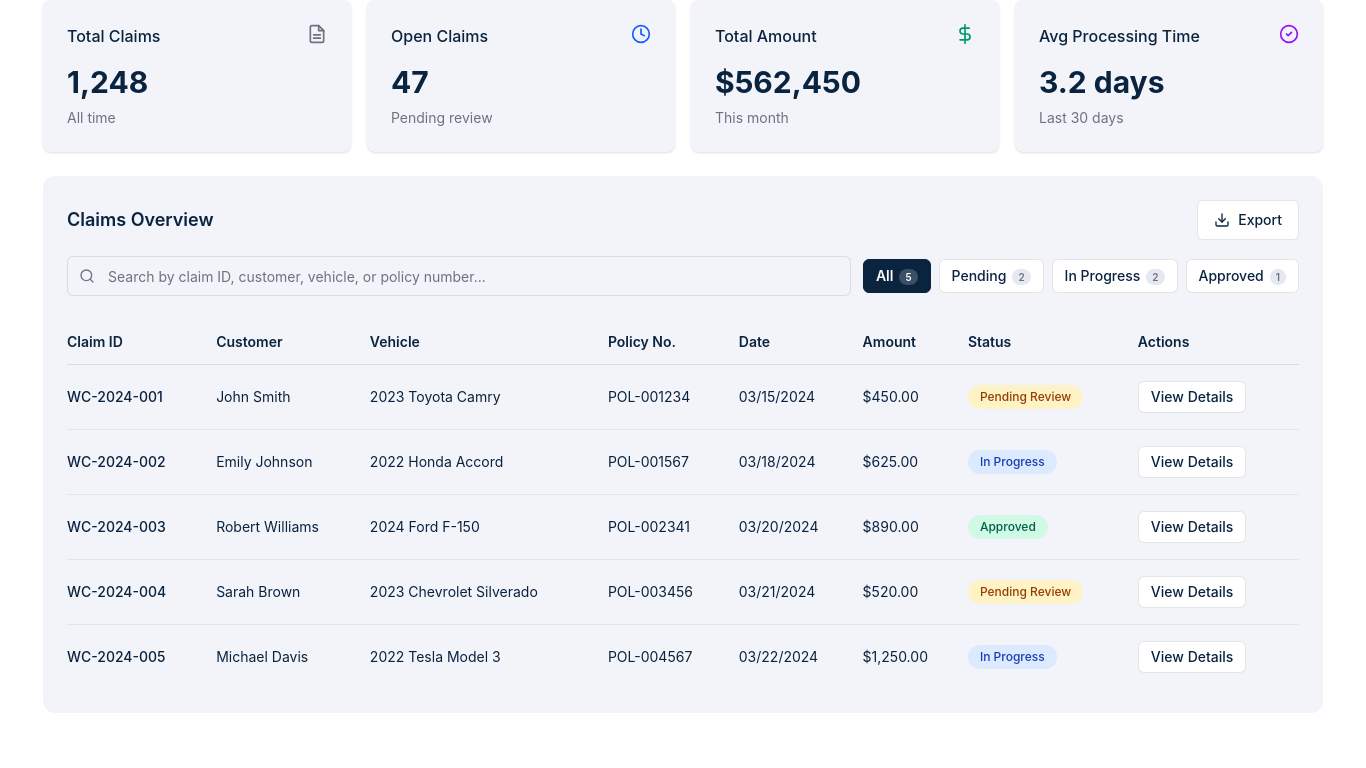
Scenario: InsurerDashboardPage › filters to Pending Review claims
The width and height of the screenshot is (1366, 768).
Click the tab "Pending2".
click(991, 276)  # box [938,259,1044,293]
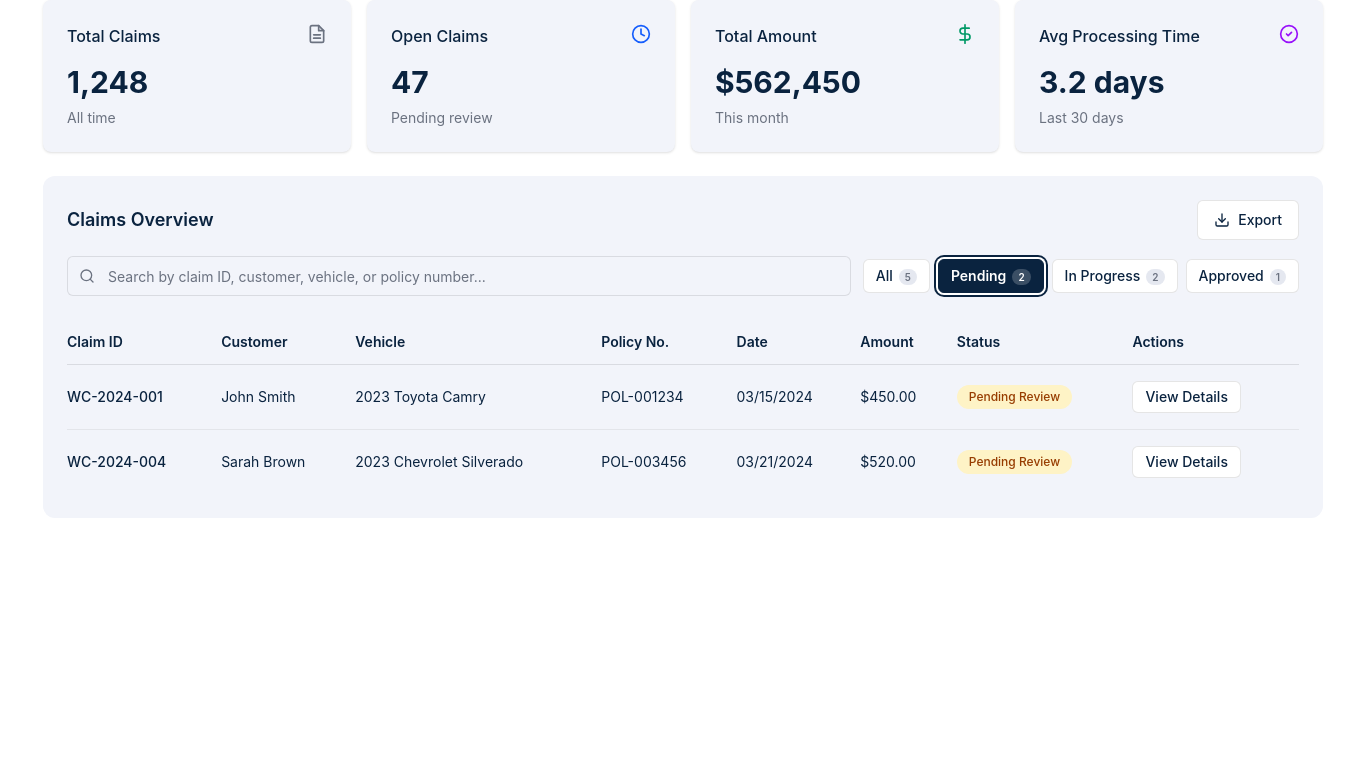
Check: the text "WC-2024-001" is shown, box [67,364,221,430]
Check: the text "WC-2024-003" is gone
